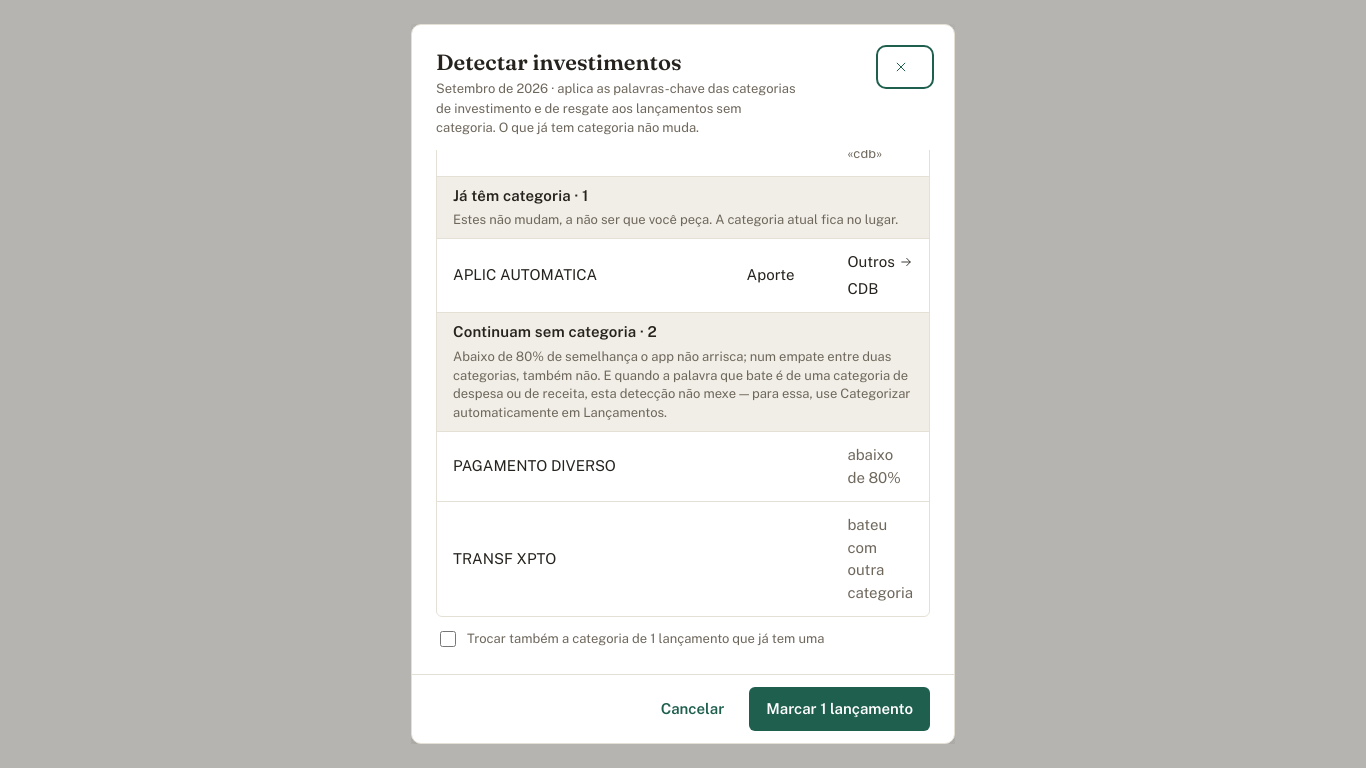
Test case: DetectInvestmentsDialog › a caixa muda o rótulo do confirmar, e marcá-la não grava nada
(page scrolled)
Expected: the button "Marcar 1 lançamento" is shown, [749,687,930,731]
Click the checkbox labelled "Trocar também a categoria de 1 lançamento que já tem uma": (448, 639) [440,631,456,647]
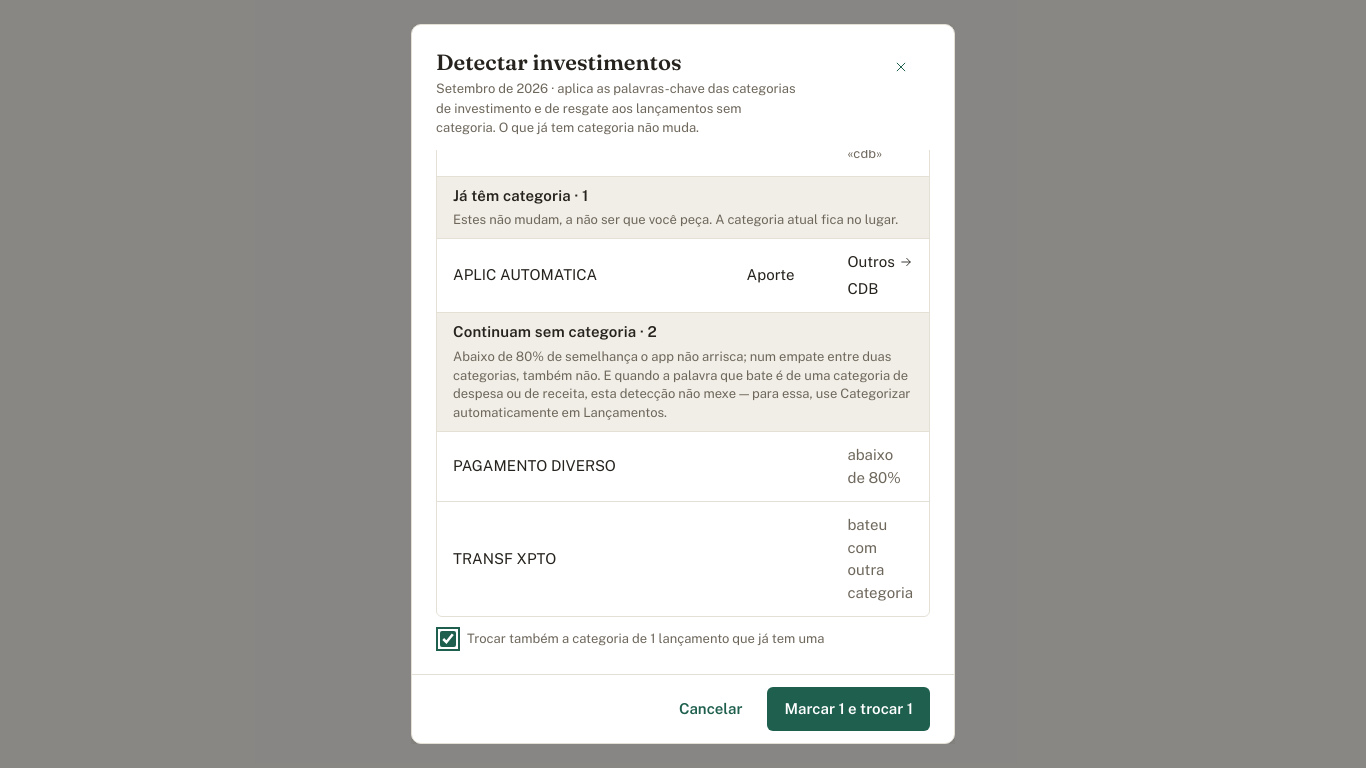
Expected: the button "Marcar 1 e trocar 1" is shown, [768,687,930,731]
